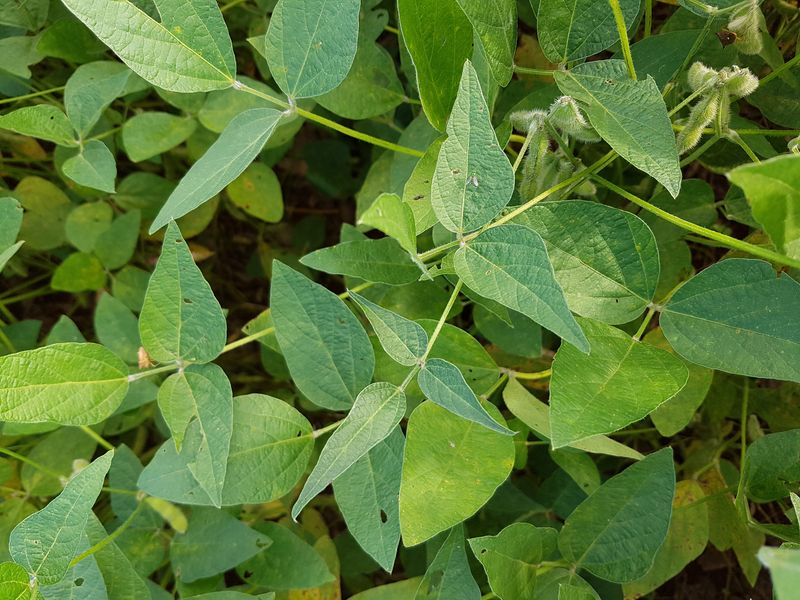Euschistus_heros_adulto: (710, 24, 745, 53), (131, 342, 162, 374)
